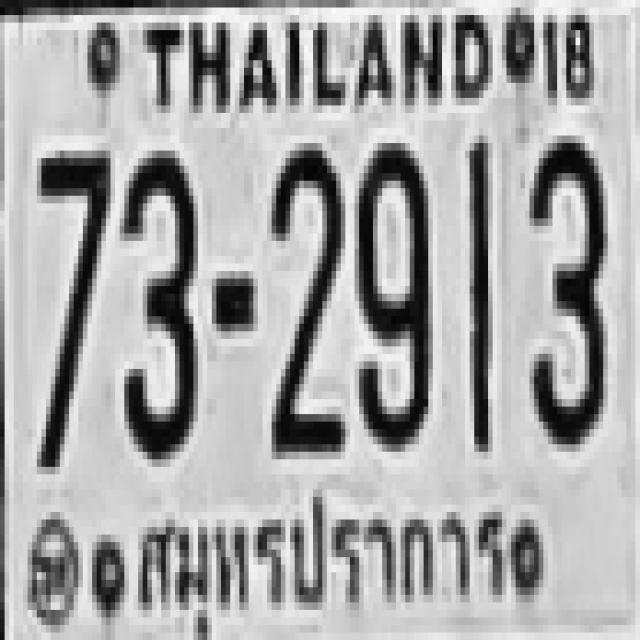1: (465, 139, 488, 448)
2: (267, 143, 341, 452)
3: (525, 132, 603, 440), (120, 143, 193, 452)
7: (32, 143, 106, 467)
9: (355, 136, 428, 444)
SamutPrakan: (131, 486, 510, 624)
